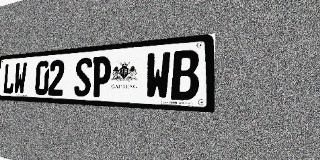0: (34, 60, 50, 95)
2: (48, 59, 65, 96)
B: (171, 49, 200, 101)
L: (2, 63, 16, 94)
P: (91, 56, 112, 98)
S: (74, 57, 93, 97)
W: (145, 51, 171, 100), (13, 62, 27, 95)
